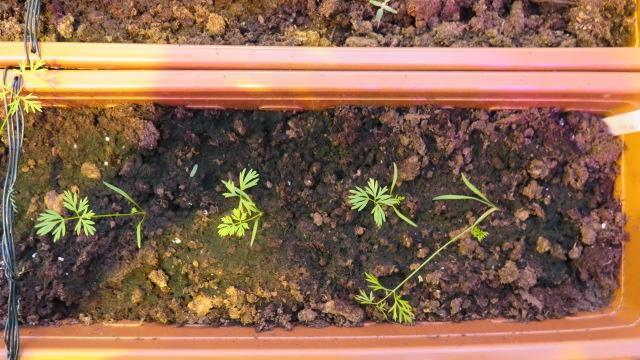crop: (30, 175, 146, 249), (340, 156, 421, 229), (214, 164, 272, 248)
